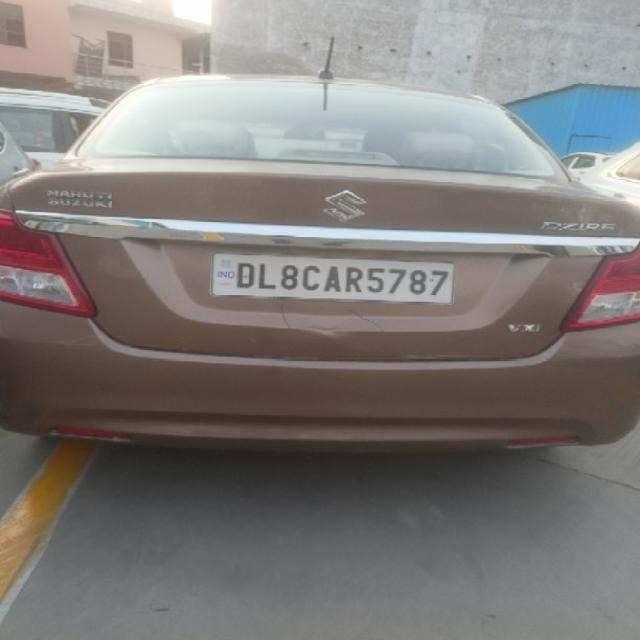license_plate: (208, 251, 455, 304)
